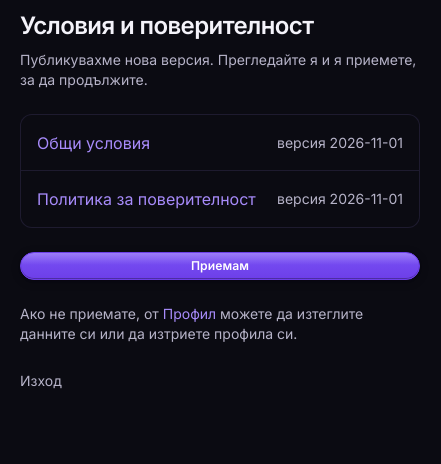
Test: /start/terms › a failed save says so and goes nowhere
Click the button with test id "legal-accept": (220, 266) [20,252,420,280]
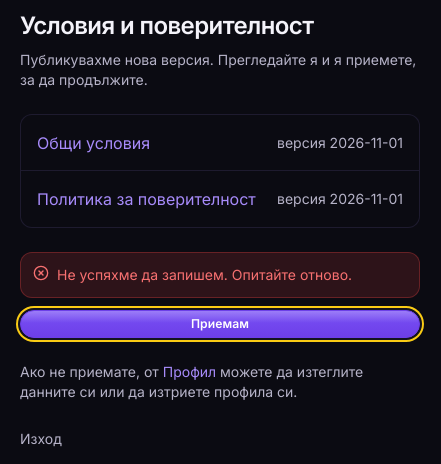
Check: the message with test id "legal-error" reads "Не успяхме да запишем. Опитайте отново.", box [57,266,352,283]
